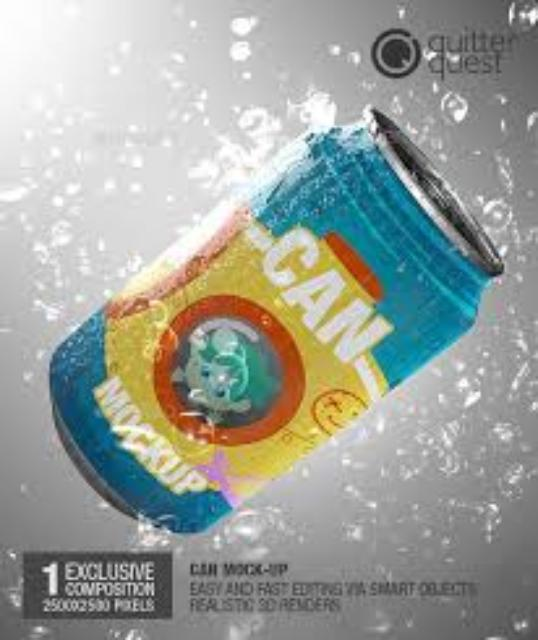metal: (47, 110, 496, 528)
